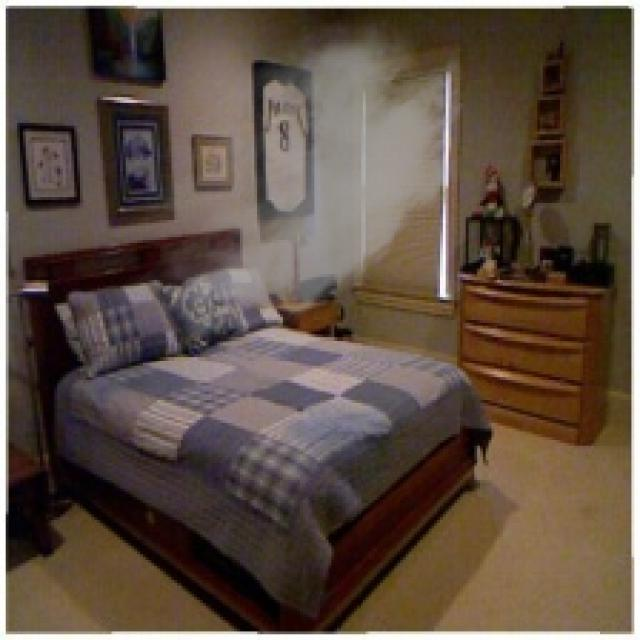Smoke: (114, 2, 477, 358)
